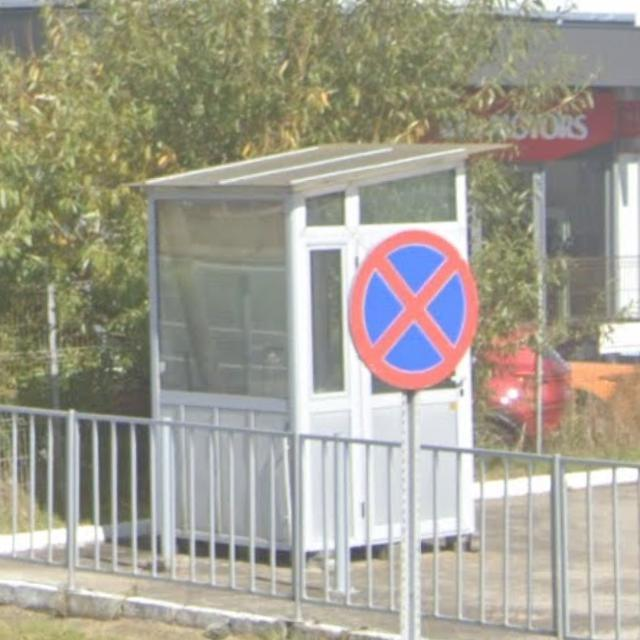forb_waiting: (346, 226, 481, 391)
